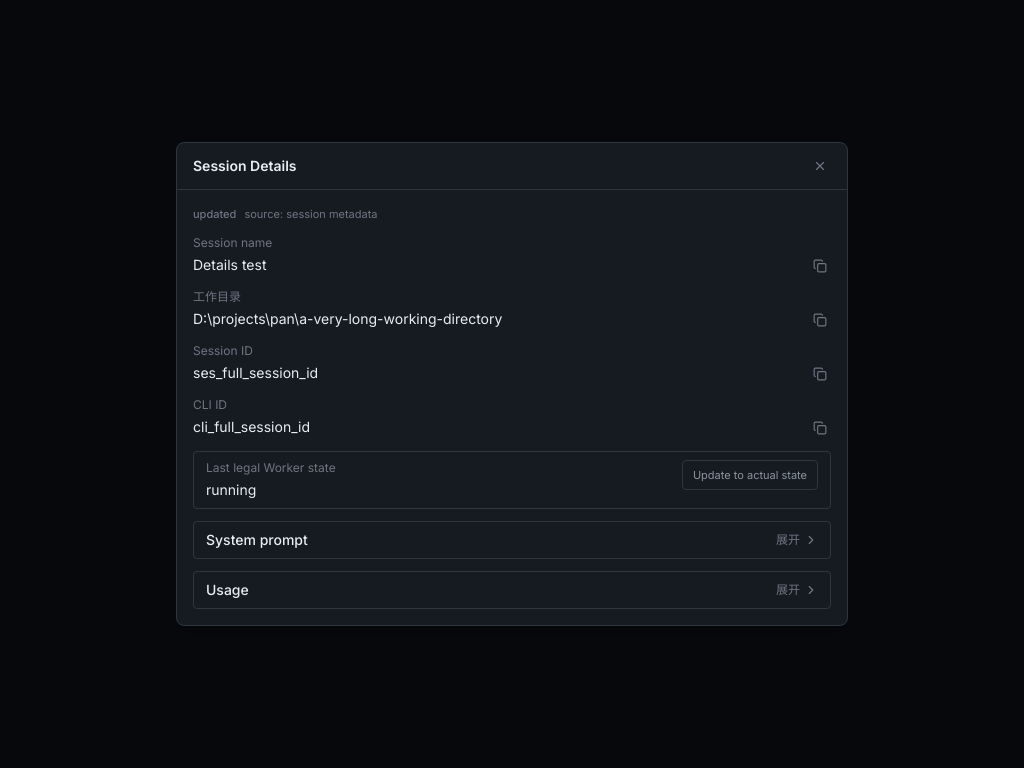
Test: SessionDetailsModal › shows helper failure without replacing the persisted legal state
The width and height of the screenshot is (1024, 768).
Expected: the element named "Legal Worker state" shows "running", [206,481,256,498]
Click the button "Update to actual state" at (750, 475), box [682,460,818,490]
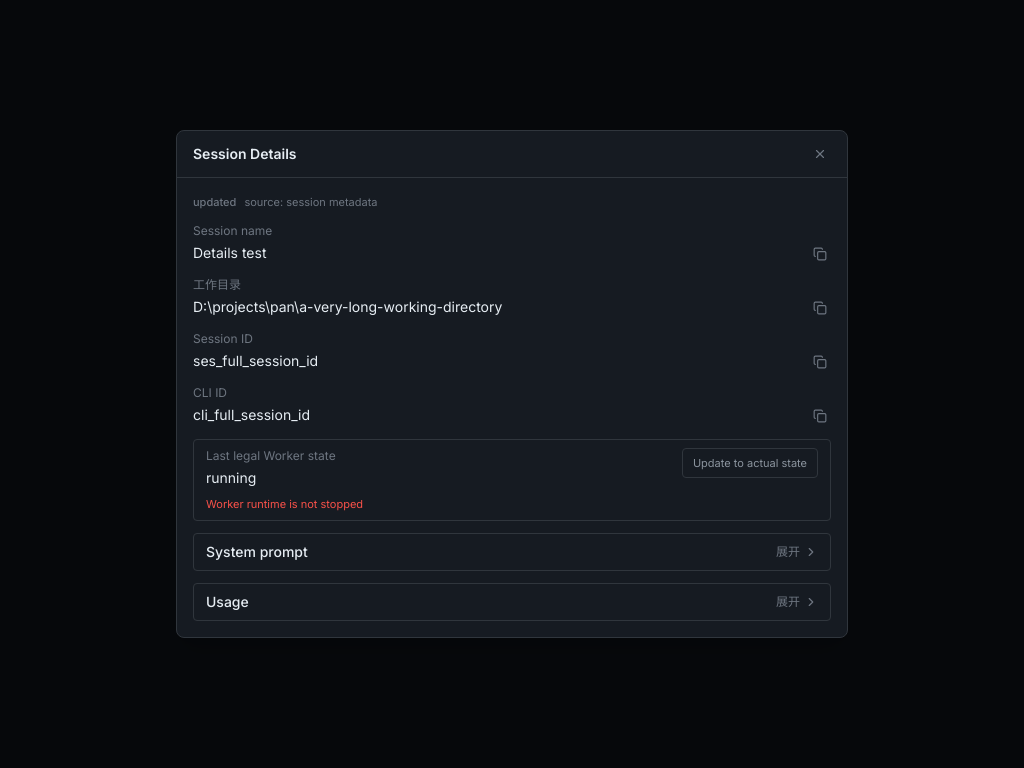
Expected: the element named "Legal Worker state" shows "running", [206,468,256,486]
Now the message reads "Worker runtime is not stopped", box [206,496,363,510]
